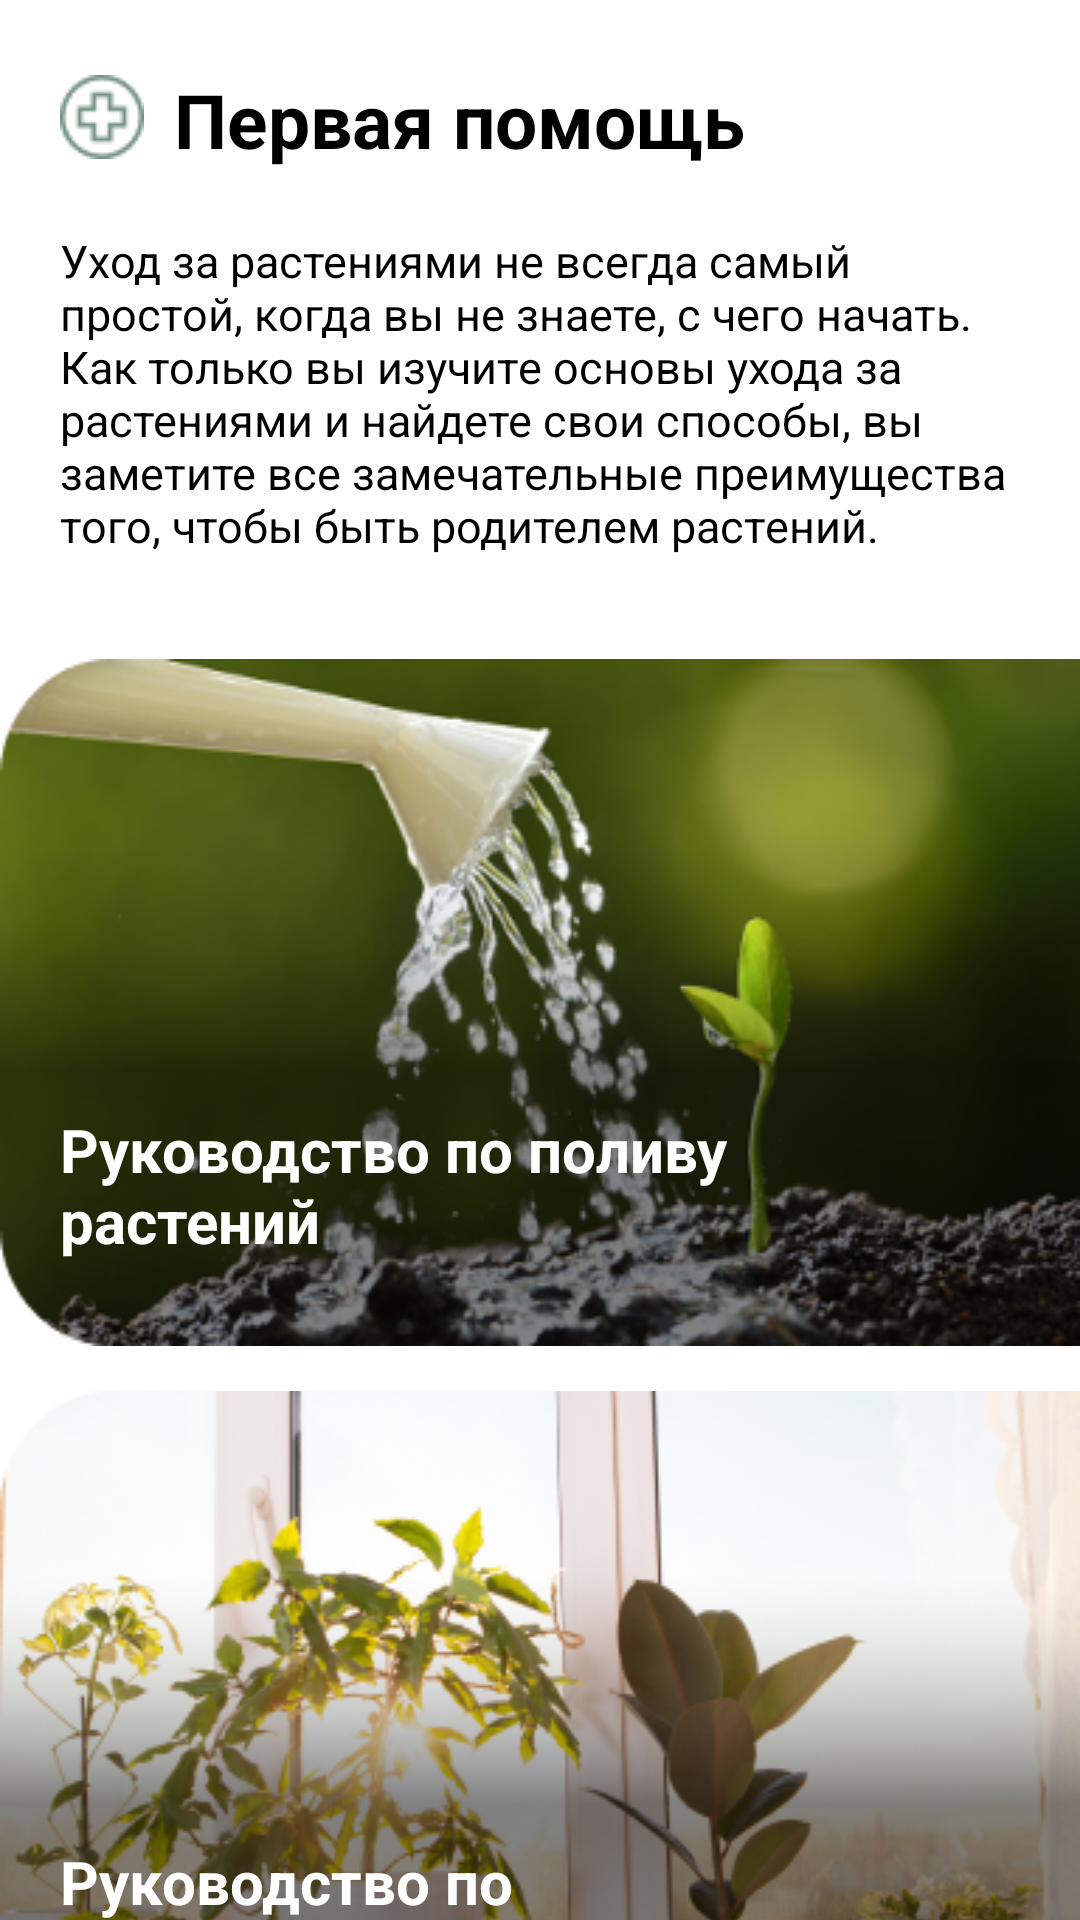

Screen size 1080*1920. Icon name, then its center in pixels as [x,y]:
aid: [102,117]
